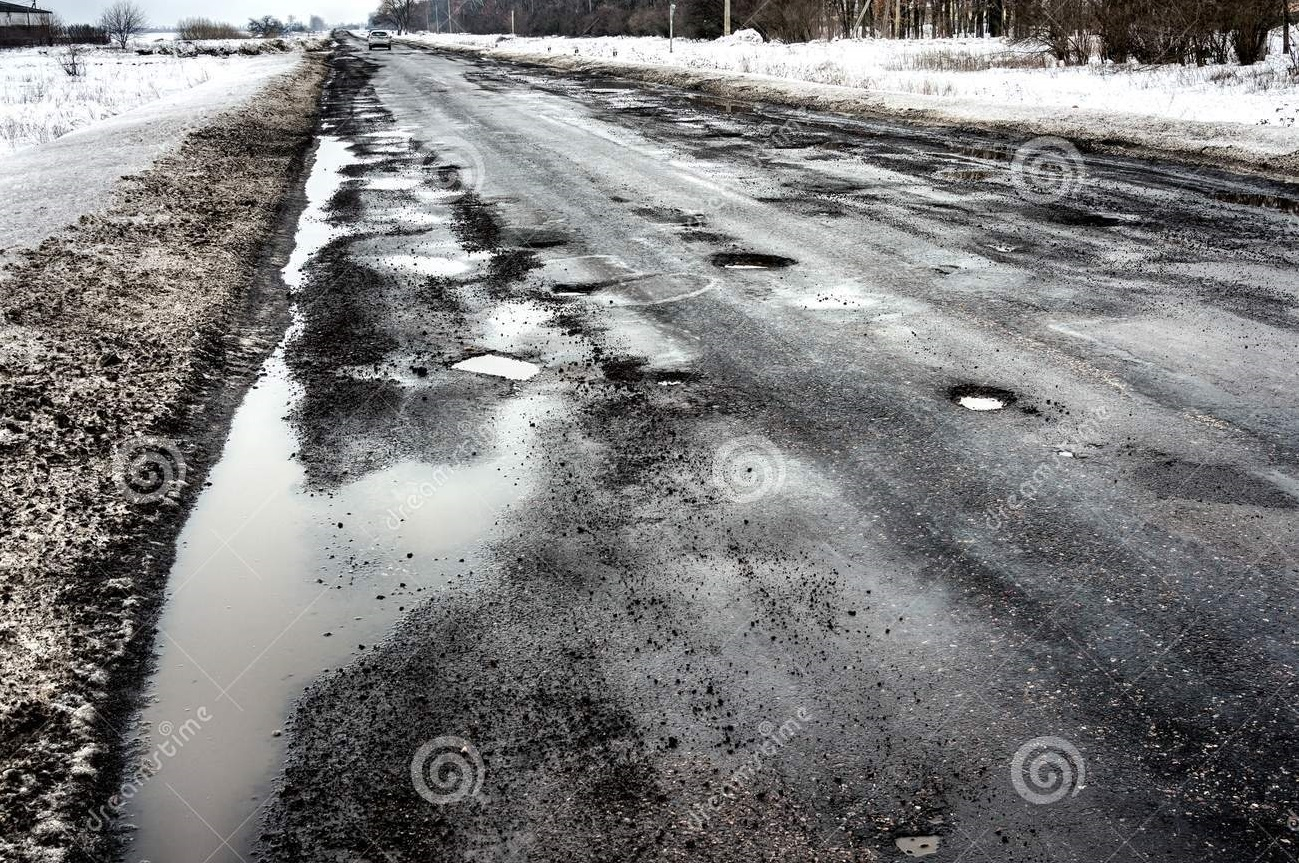pothole: (130, 396, 347, 849), (432, 340, 552, 389), (879, 791, 953, 863), (699, 237, 804, 285), (377, 240, 479, 288), (945, 383, 1013, 417), (861, 153, 920, 184), (637, 203, 715, 226), (675, 220, 737, 247), (366, 179, 431, 198), (349, 139, 414, 155), (420, 184, 482, 199)
